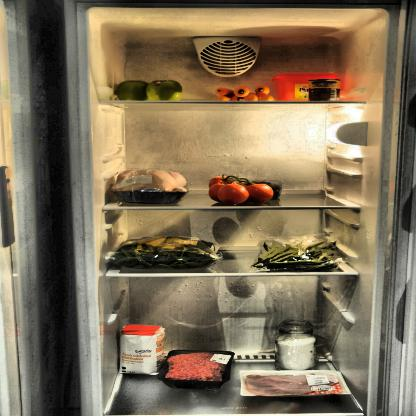apple: (116, 78, 183, 102)
blueberries: (267, 182, 284, 199)
butter: (272, 71, 344, 101)
carrot: (213, 85, 278, 103)
chicken: (110, 167, 190, 205)
corn: (308, 79, 344, 102)
green_beans: (250, 238, 344, 272)
ground_beef: (166, 349, 232, 391)
spinach: (110, 234, 226, 270)
tomato: (206, 174, 276, 204)
